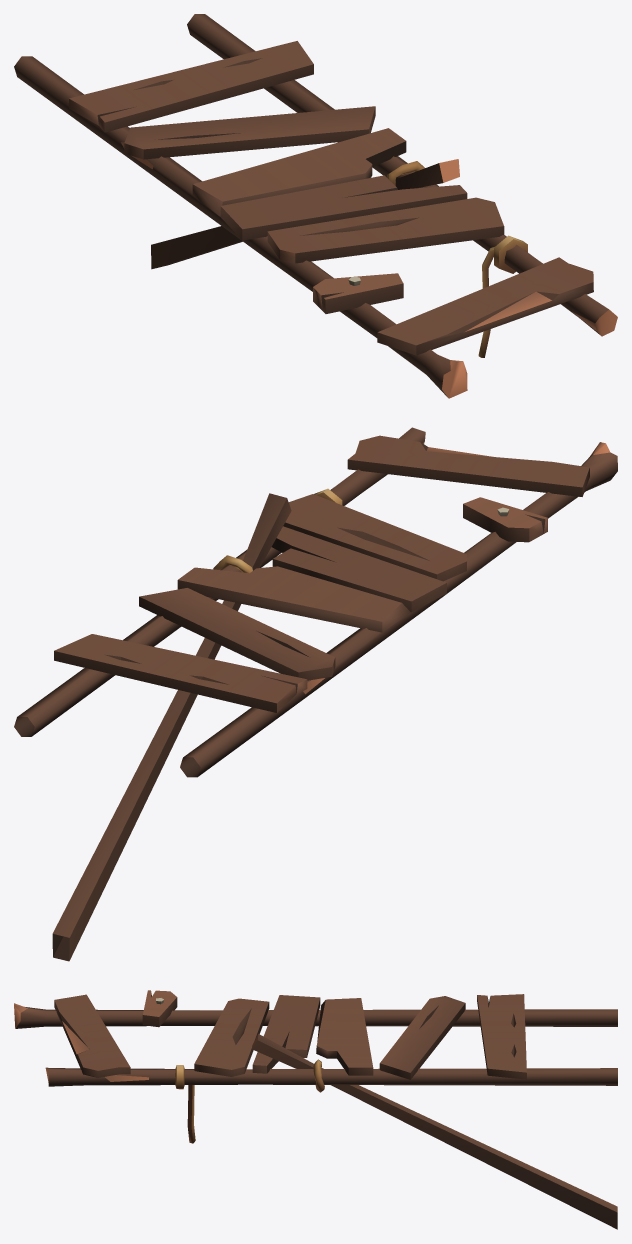
Rendered from Suspended_Bridge_1B.fbx.
3 renders of one model, top to bottom at view 1: azimuth 30°, elevation 25°; view 2: azimuth 150°, elevation 25°; view 3: azimuth 270°, elevation 25°, orthographic. The views are drawn at different scales.
Visible parts, largest first — view 1: Suspended_Bridge_1B; view 2: Suspended_Bridge_1B; view 3: Suspended_Bridge_1B.
Part boxes in pixels (x1,y1,x2,y2): Suspended_Bridge_1B: (14, 14, 617, 398); Suspended_Bridge_1B: (14, 427, 617, 961); Suspended_Bridge_1B: (14, 990, 617, 1229).
Size of the model in its own units: 225 by 254 by 694.
